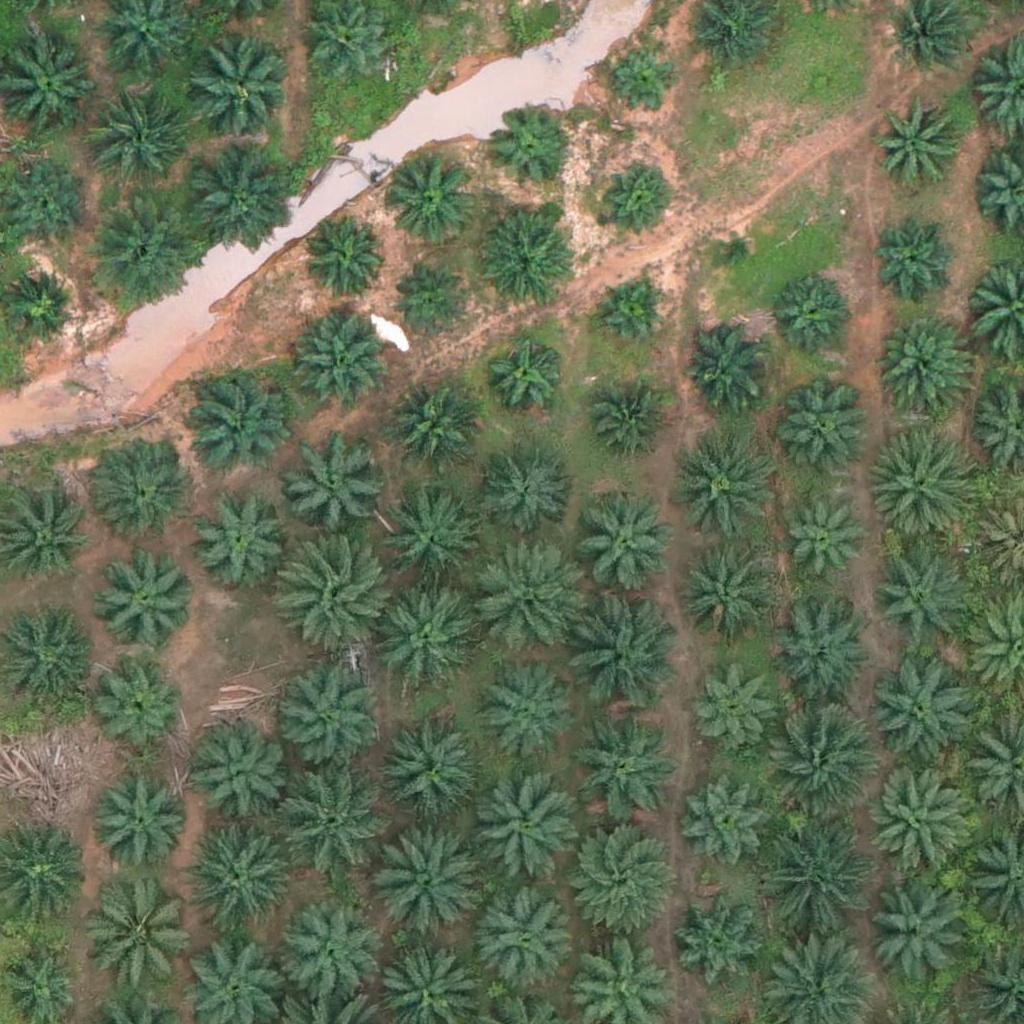Kelapa_Sawit: (468, 538, 581, 652), (87, 202, 200, 315), (176, 23, 289, 136), (560, 816, 673, 929), (467, 773, 580, 886), (178, 817, 291, 930), (761, 699, 873, 813), (758, 817, 870, 931), (565, 594, 677, 708), (81, 83, 193, 196), (180, 146, 292, 259), (868, 429, 980, 542), (373, 822, 485, 935), (277, 767, 389, 880), (271, 657, 383, 770), (278, 537, 390, 650), (87, 880, 199, 993), (472, 216, 572, 317), (874, 315, 974, 416), (775, 383, 875, 484), (573, 496, 673, 597), (285, 433, 385, 534), (183, 372, 283, 473), (91, 437, 191, 538), (872, 550, 972, 651), (870, 669, 970, 770), (770, 607, 870, 708), (667, 887, 767, 988), (475, 886, 575, 987), (474, 657, 574, 758), (373, 587, 473, 688), (377, 720, 477, 821), (281, 903, 381, 1004), (188, 724, 288, 825), (93, 772, 193, 873), (96, 547, 196, 648), (673, 438, 773, 538), (288, 319, 388, 419), (187, 488, 287, 588), (872, 777, 972, 877), (866, 883, 966, 983), (680, 768, 780, 868), (676, 542, 776, 642), (571, 719, 671, 819), (476, 439, 576, 539), (383, 494, 483, 594), (871, 216, 959, 304), (778, 503, 866, 591), (684, 321, 772, 409), (692, 663, 780, 751), (877, 100, 964, 189), (2, 158, 89, 246), (489, 104, 576, 192), (388, 384, 475, 472), (584, 385, 671, 473), (768, 262, 855, 350), (383, 153, 470, 241), (301, 216, 388, 304), (96, 659, 183, 747), (486, 338, 561, 414), (592, 278, 667, 354), (598, 161, 673, 237), (609, 41, 684, 117), (396, 269, 471, 344), (709, 222, 759, 272)
